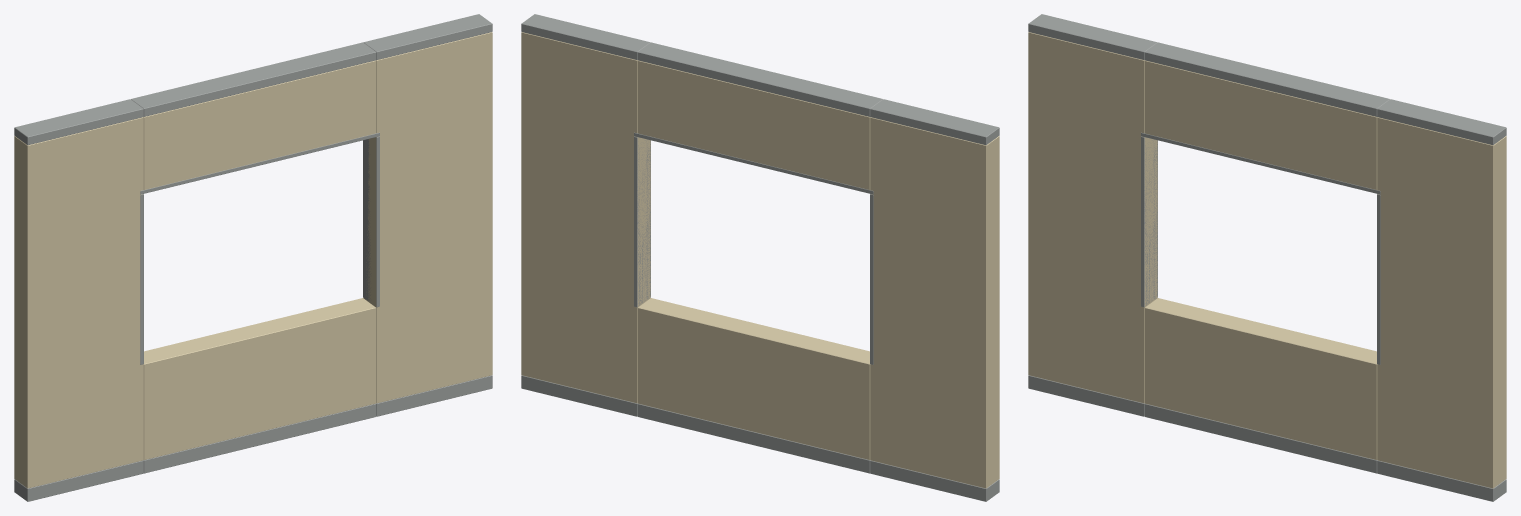
Rendered from b21_wall_window_opening_4m.glb.
3 renders of one model, left to right at view 1: azimuth 30°, elevation 25°; view 2: azimuth 150°, elevation 25°; view 3: azimuth 330°, elevation 25°, orthographic.
Visible parts, largest first — view 1: b21_wall_window_opening_4m; view 2: b21_wall_window_opening_4m; view 3: b21_wall_window_opening_4m.
Part boxes in pixels (bbox=[...]): b21_wall_window_opening_4m: bbox=[14, 14, 492, 501]; b21_wall_window_opening_4m: bbox=[521, 14, 999, 501]; b21_wall_window_opening_4m: bbox=[1028, 14, 1506, 501].
Size of the model in its own units: 4 by 3 by 0.204.
